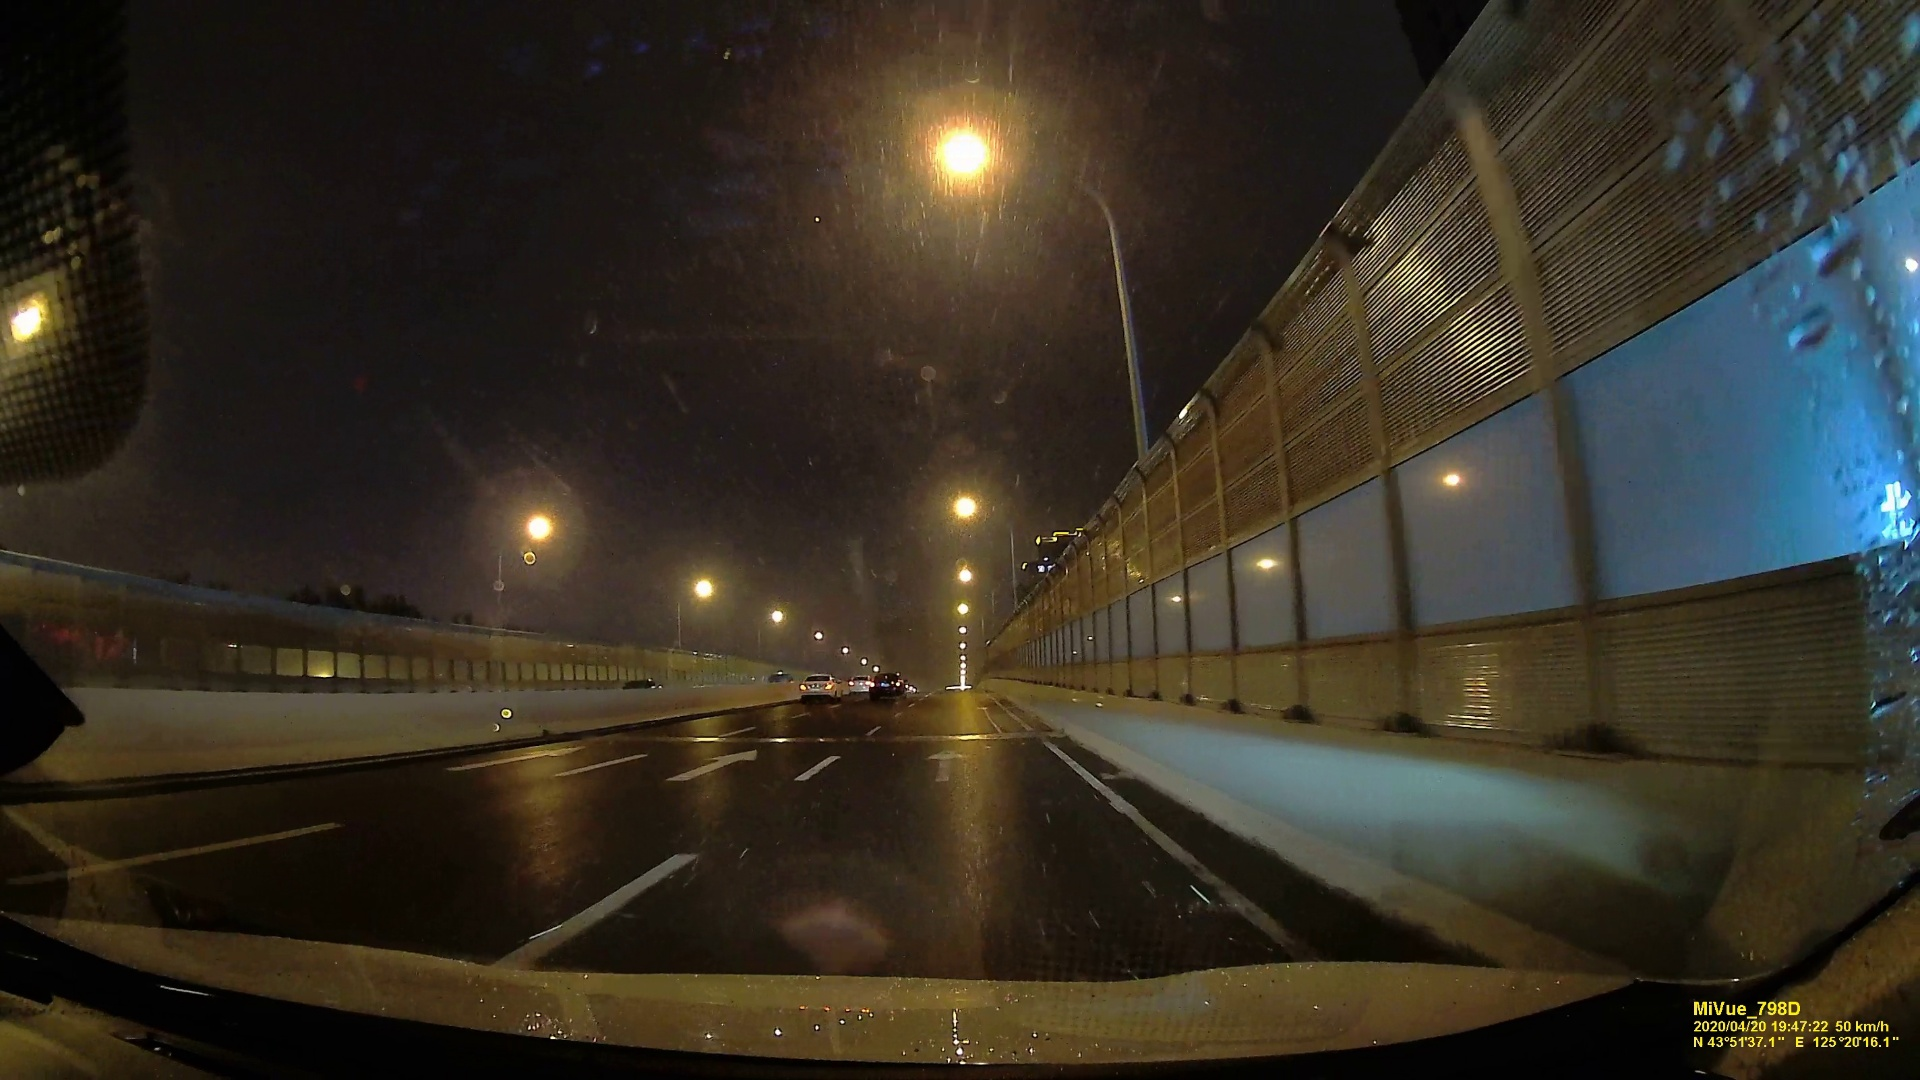vehicle: (800, 674, 845, 702), (866, 673, 905, 698)
